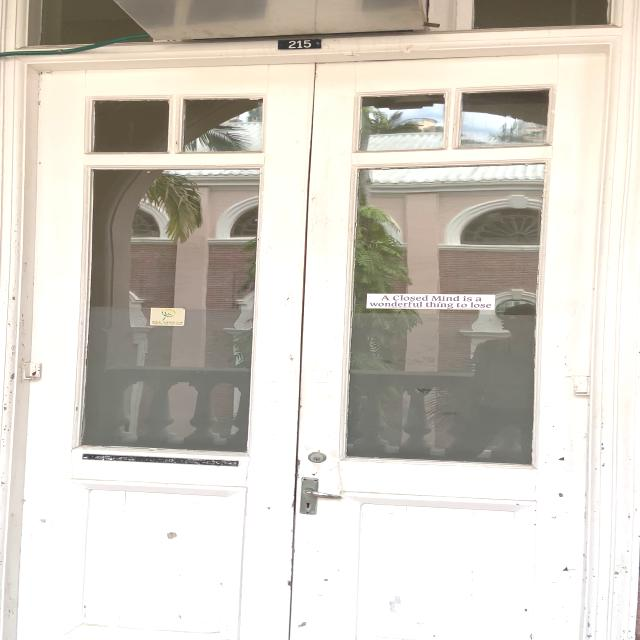room215: (276, 35, 328, 50)
